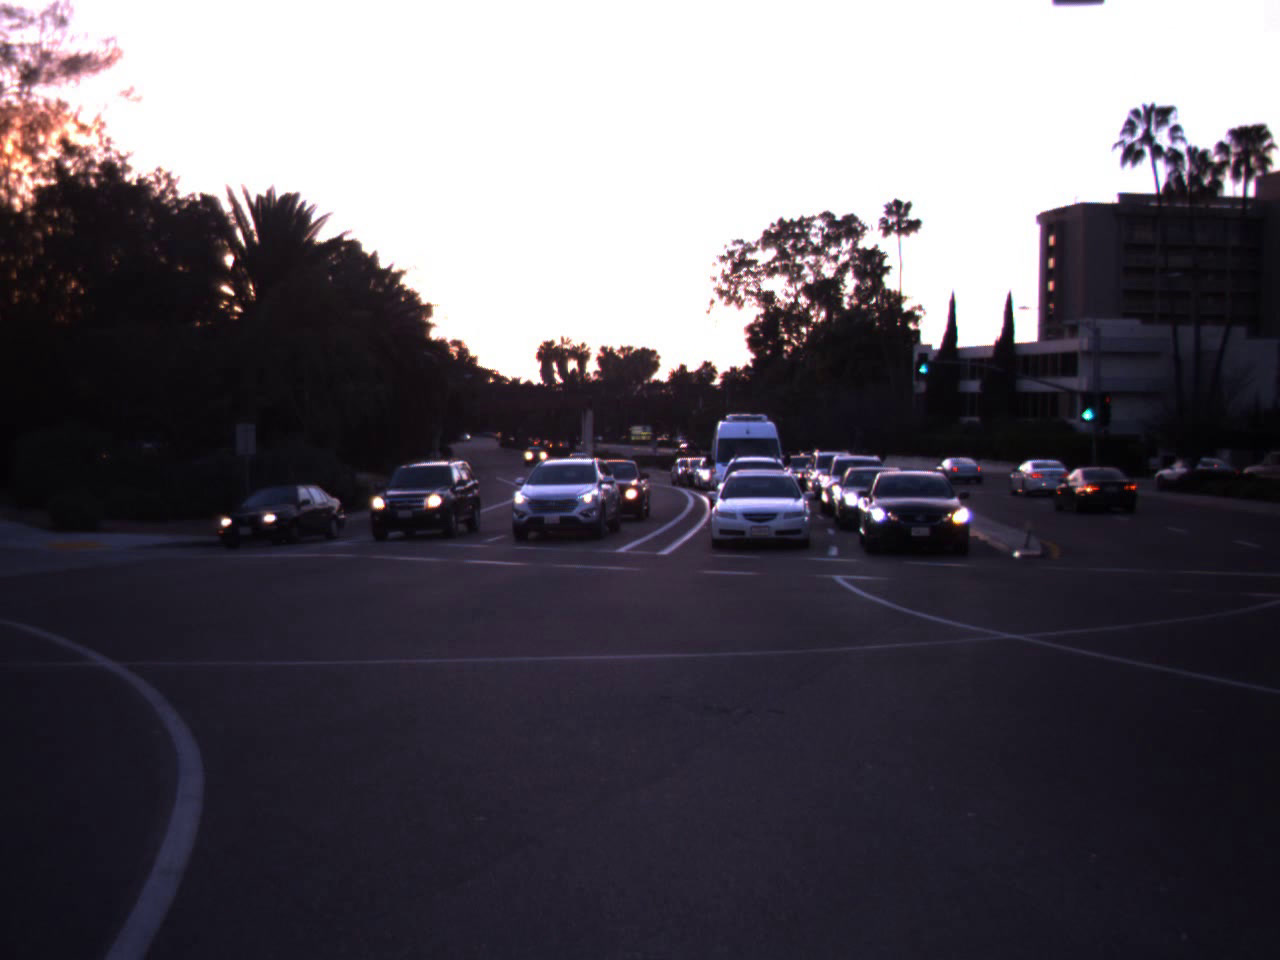go: (1068, 366, 1104, 426), (910, 329, 937, 379)
